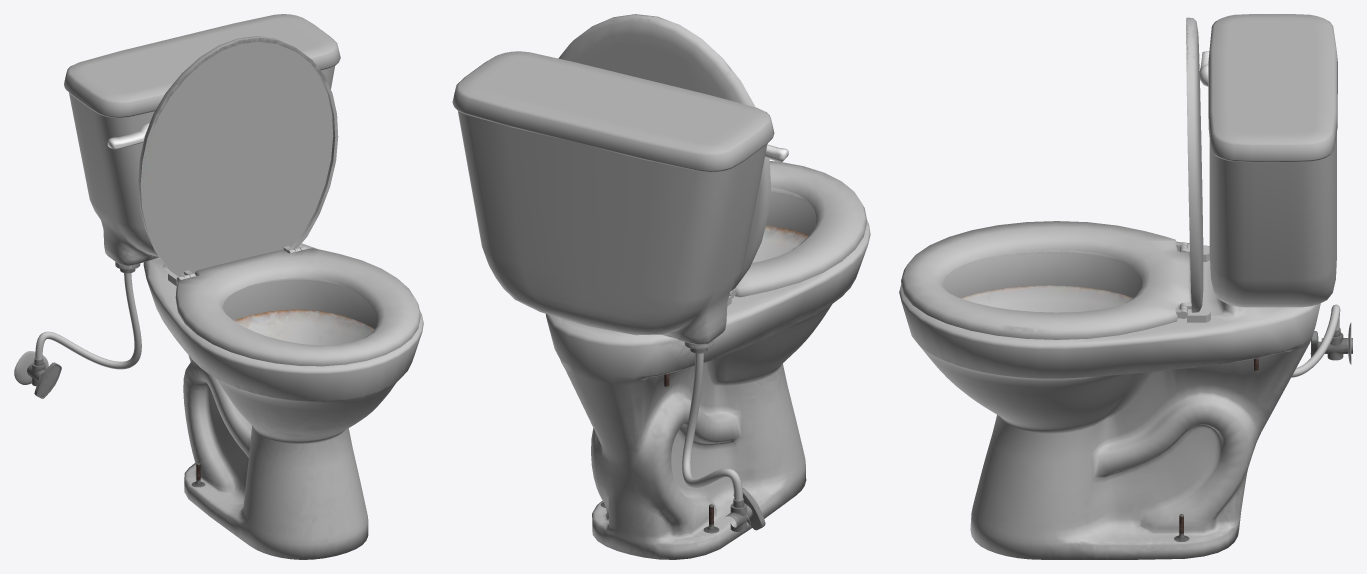
Rendered from toilet-transformed.glb.
The picture shows the model from 3 angles, left to right: view 1: azimuth 30°, elevation 25°; view 2: azimuth 150°, elevation 25°; view 3: azimuth 270°, elevation 25°; orthographic projection. The views are drawn at different scales.
Visible parts, largest first — view 1: Toilet_Toilet_0; view 2: Toilet_Toilet_0; view 3: Toilet_Toilet_0.
Part boxes in pixels (left/top/right/bottom): Toilet_Toilet_0: left=14, top=14, right=423, bottom=559; Toilet_Toilet_0: left=452, top=14, right=870, bottom=559; Toilet_Toilet_0: left=899, top=14, right=1352, bottom=559.
Size of the model in its own units: 0.4783 by 0.7435 by 0.607.
1 material, 1 textured.
